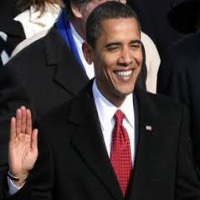ring: (16, 108, 21, 139)
